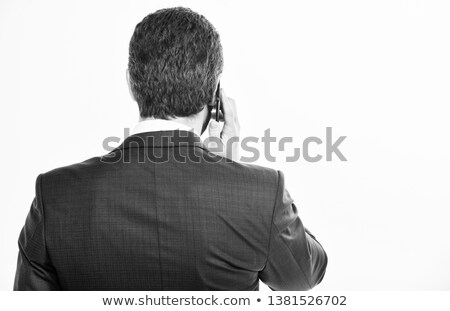phone: (204, 80, 241, 147)
